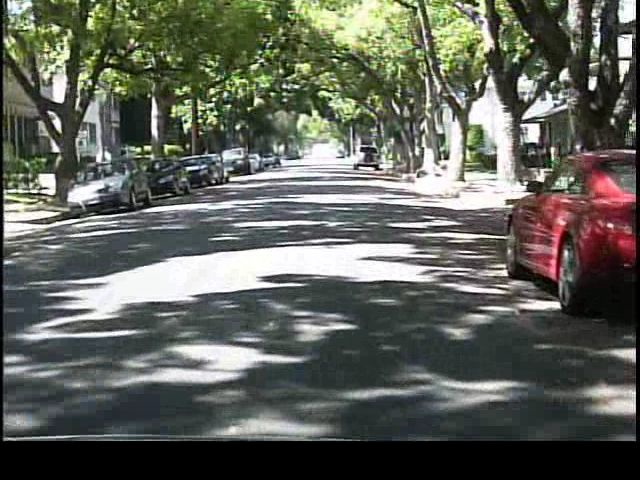person: (92, 144, 115, 195)
